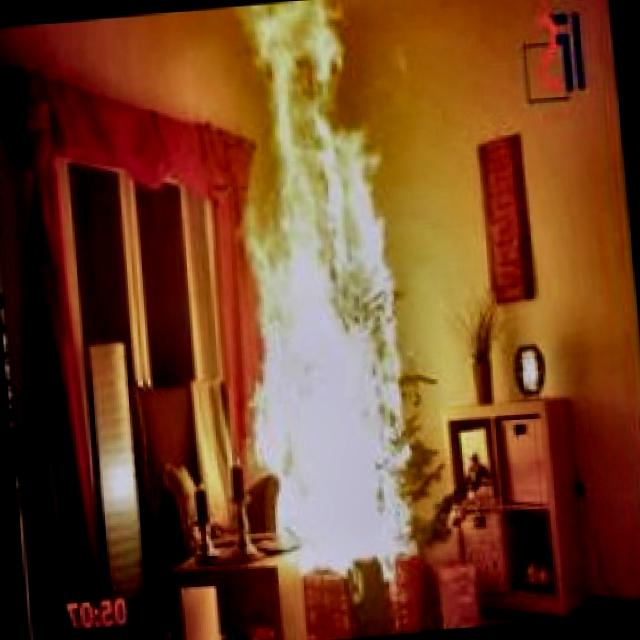fire: (220, 0, 415, 574)
